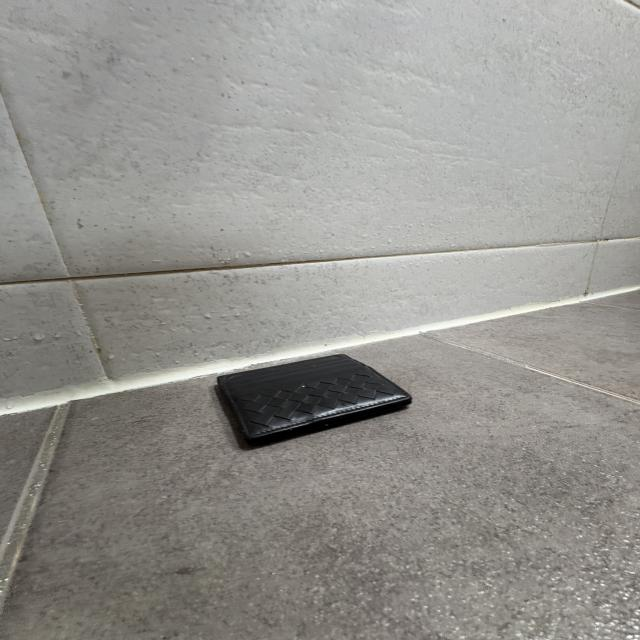wallet: (212, 352, 414, 450)
